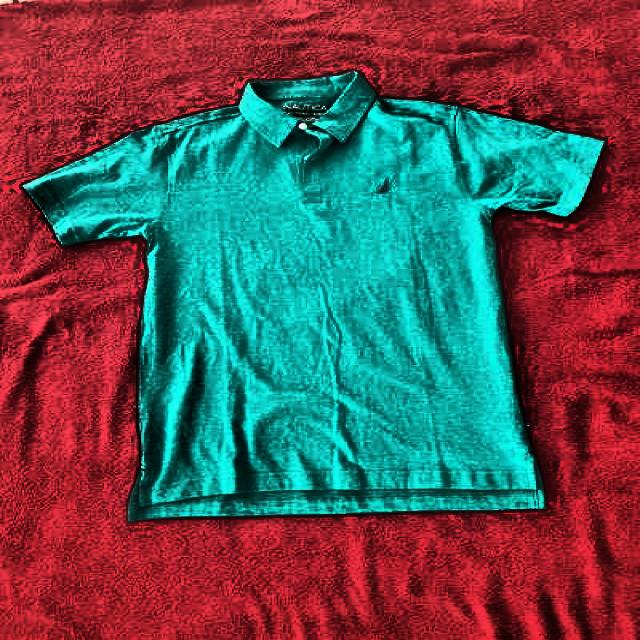clothes: (26, 73, 611, 521)
